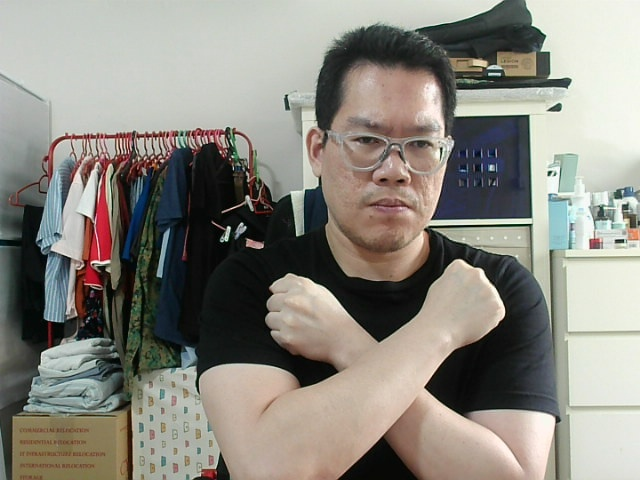love: (430, 265, 500, 328)
